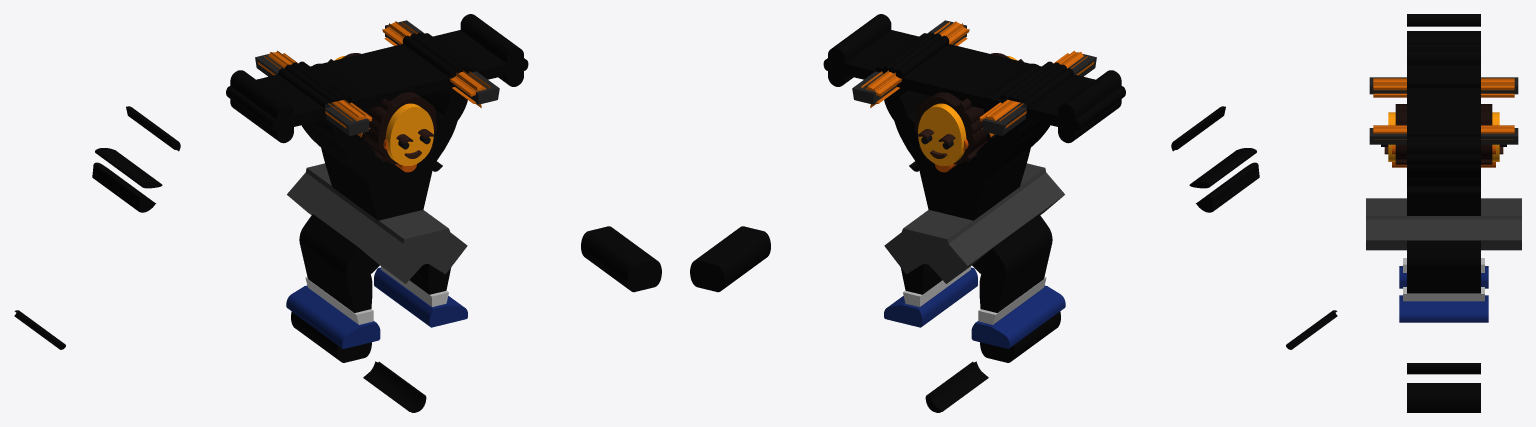
3 renders of one model, left to right at view 1: azimuth 30°, elevation 25°; view 2: azimuth 150°, elevation 25°; view 3: azimuth 270°, elevation 25°, orthographic. The views are drawn at different scales.
Visible parts, largest first — view 1: U+1F3CB_layer00_obj04, U+1F3CB_layer11_obj00, U+1F3CB_layer00_obj25, U+1F3CB_layer00_obj06, U+1F3CB_layer00_obj10, U+1F3CB_layer02_obj01, U+1F3CB_layer00_obj11, U+1F3CB_layer00_obj22, U+1F3CB_layer05_obj00, U+1F3CB_layer02_obj00, U+1F3CB_layer00_obj15, U+1F3CB_layer00_obj19 (+16 smaller); view 2: U+1F3CB_layer00_obj04, U+1F3CB_layer11_obj00, U+1F3CB_layer00_obj25, U+1F3CB_layer00_obj06, U+1F3CB_layer00_obj10, U+1F3CB_layer02_obj01, U+1F3CB_layer00_obj11, U+1F3CB_layer00_obj22, U+1F3CB_layer05_obj00, U+1F3CB_layer02_obj00, U+1F3CB_layer00_obj15, U+1F3CB_layer00_obj19 (+16 smaller); view 3: U+1F3CB_layer11_obj00, U+1F3CB_layer00_obj04, U+1F3CB_layer00_obj13, U+1F3CB_layer00_obj10, U+1F3CB_layer00_obj25, U+1F3CB_layer02_obj00, U+1F3CB_layer00_obj15, U+1F3CB_layer00_obj05, U+1F3CB_layer00_obj11, U+1F3CB_layer00_obj20, U+1F3CB_layer00_obj14, U+1F3CB_layer00_obj18 (+15 smaller).
Boxes of the visible parts, x1,y1,x2,y2 form: U+1F3CB_layer00_obj04: (226, 30, 528, 131); U+1F3CB_layer11_obj00: (287, 163, 467, 283); U+1F3CB_layer00_obj25: (310, 137, 443, 220); U+1F3CB_layer00_obj06: (299, 214, 379, 312); U+1F3CB_layer00_obj10: (581, 226, 661, 292); U+1F3CB_layer02_obj01: (286, 285, 380, 348); U+1F3CB_layer00_obj11: (230, 70, 293, 143); U+1F3CB_layer00_obj22: (301, 120, 385, 182); U+1F3CB_layer05_obj00: (334, 56, 433, 165); U+1F3CB_layer02_obj00: (374, 267, 467, 327); U+1F3CB_layer00_obj15: (460, 14, 523, 86); U+1F3CB_layer00_obj19: (417, 90, 467, 169); U+1F3CB_layer00_obj04: (823, 30, 1125, 131); U+1F3CB_layer11_obj00: (884, 163, 1064, 283); U+1F3CB_layer00_obj25: (906, 137, 1041, 220); U+1F3CB_layer00_obj06: (972, 214, 1052, 312); U+1F3CB_layer00_obj10: (690, 226, 770, 292); U+1F3CB_layer02_obj01: (971, 285, 1065, 348); U+1F3CB_layer00_obj11: (1058, 70, 1121, 143); U+1F3CB_layer00_obj22: (966, 120, 1050, 182); U+1F3CB_layer05_obj00: (918, 56, 1017, 165); U+1F3CB_layer02_obj00: (884, 267, 977, 327); U+1F3CB_layer00_obj15: (828, 14, 891, 86); U+1F3CB_layer00_obj19: (884, 90, 934, 169); U+1F3CB_layer11_obj00: (1366, 198, 1521, 250); U+1F3CB_layer00_obj04: (1407, 65, 1480, 164); U+1F3CB_layer00_obj13: (1407, 240, 1480, 293); U+1F3CB_layer00_obj10: (1407, 383, 1480, 412); U+1F3CB_layer00_obj25: (1407, 181, 1480, 215); U+1F3CB_layer02_obj00: (1399, 295, 1488, 322); U+1F3CB_layer00_obj15: (1407, 140, 1480, 171); U+1F3CB_layer00_obj05: (1407, 121, 1480, 136); U+1F3CB_layer00_obj11: (1407, 50, 1480, 65); U+1F3CB_layer00_obj20: (1407, 74, 1480, 87); U+1F3CB_layer00_obj14: (1407, 14, 1480, 26); U+1F3CB_layer00_obj18: (1407, 31, 1480, 43).
Bounding box in the file's own units: 0.7463 × 0.4033 × 0.21.
